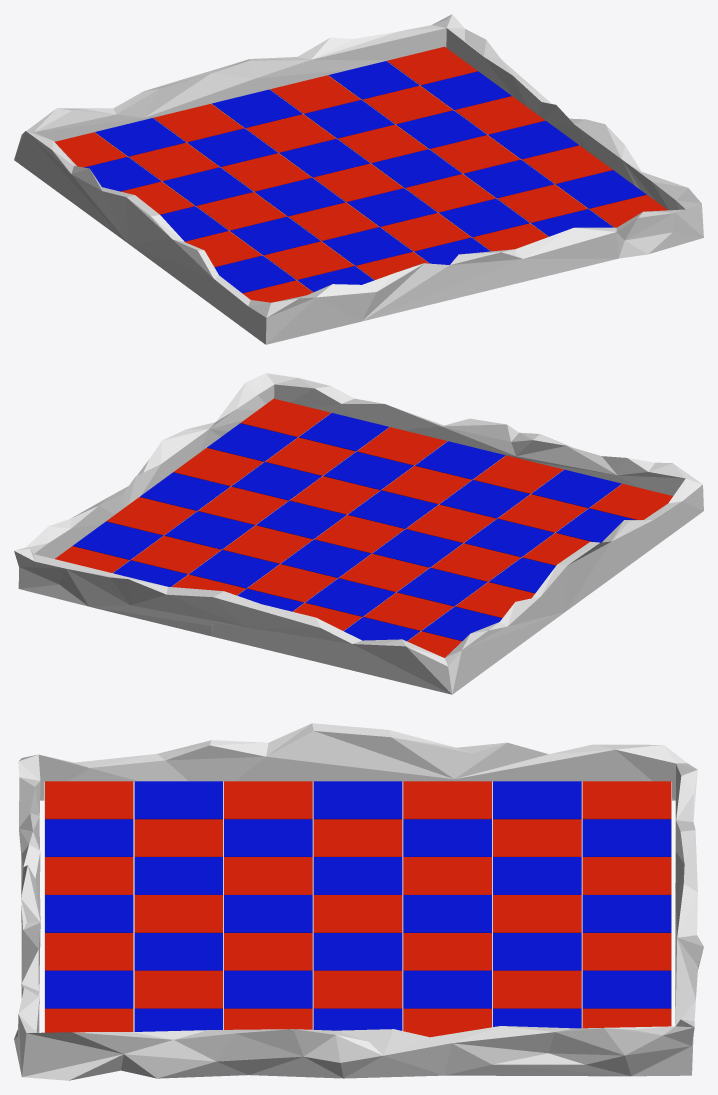
The model's file is Board.fbx.
3 views of the same model, one above another, from view 1: azimuth 30°, elevation 25°; view 2: azimuth 150°, elevation 25°; view 3: azimuth 270°, elevation 25° (orthographic). The views are drawn at different scales.
Parts seen in each view (by area): view 1: CheckerBoardPlatrform, CheckerBoardBorder, CheckerBoardBorder.001; view 2: CheckerBoardPlatrform, CheckerBoardBorder, CheckerBoardBorder.001; view 3: CheckerBoardPlatrform, CheckerBoardBorder, CheckerBoardBorder.001.
Part boxes in pixels (box(x1,y1,x2,y2)): CheckerBoardPlatrform: box(55, 46, 667, 302); CheckerBoardBorder: box(14, 14, 703, 344); CheckerBoardBorder.001: box(113, 59, 257, 127); CheckerBoardPlatrform: box(55, 398, 672, 657); CheckerBoardBorder: box(14, 373, 703, 694); CheckerBoardBorder.001: box(211, 591, 361, 671); CheckerBoardPlatrform: box(44, 781, 671, 1037); CheckerBoardBorder: box(14, 723, 703, 1080); CheckerBoardBorder.001: box(675, 820, 697, 947).
Bounding box in the file's own units: 30.86 × 3.27 × 30.79.
